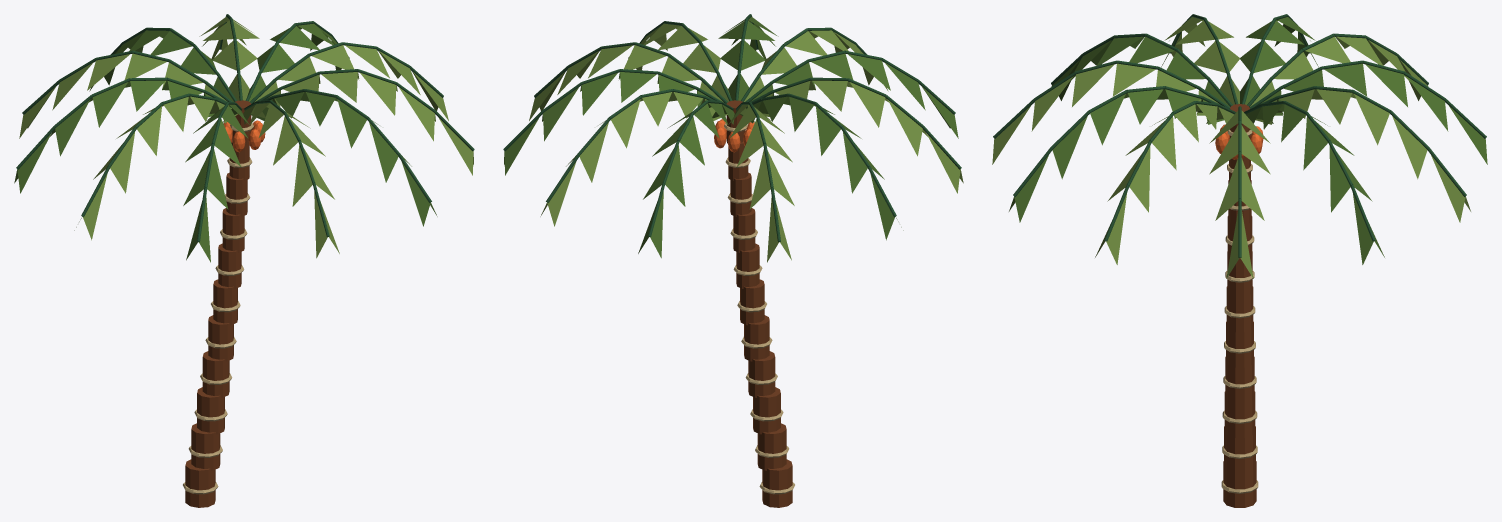
File: palm.glb
3 renders of one model, left to right at view 1: azimuth 30°, elevation 25°; view 2: azimuth 150°, elevation 25°; view 3: azimuth 270°, elevation 25°, orthographic. The views are drawn at different scales.
Parts seen in each view (by area): view 1: Mango Tide date palmMesh; view 2: Mango Tide date palmMesh; view 3: Mango Tide date palmMesh.
Boxes of the visible parts, <box> form: Mango Tide date palmMesh: <box>14,14,474,507</box>; Mango Tide date palmMesh: <box>503,14,963,507</box>; Mango Tide date palmMesh: <box>992,14,1487,507</box>.
Size of the model in its own units: 7.13 by 7.28 by 7.18.
